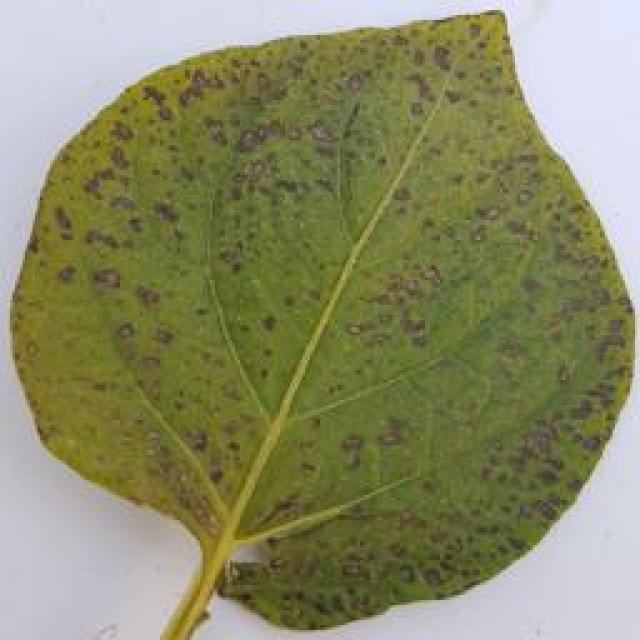Potato_Early_Blight: (9, 1, 640, 636)
